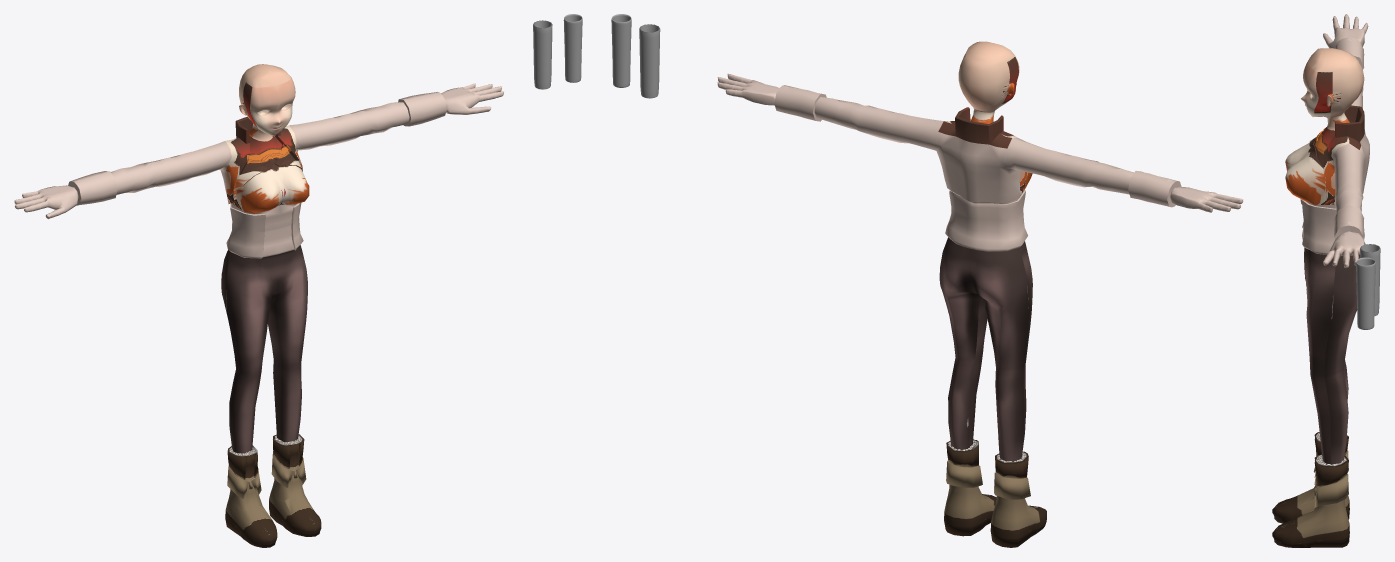
The model's file is cups (1).fbx.
The picture shows the model from 3 angles, left to right: view 1: azimuth 30°, elevation 25°; view 2: azimuth 150°, elevation 25°; view 3: azimuth 270°, elevation 25°; orthographic projection. The views are drawn at different scales.
Visible parts, largest first — view 1: pCube60, cup2, cup1; view 2: pCube60, cup2, cup1; view 3: pCube60, cup1, cup2.
Boxes of the visible parts, bbox=[...] form: pCube60: bbox=[14, 64, 504, 547]; cup2: bbox=[533, 20, 552, 89]; cup1: bbox=[563, 14, 582, 82]; pCube60: bbox=[717, 41, 1243, 547]; cup2: bbox=[639, 24, 660, 98]; cup1: bbox=[611, 14, 631, 87]; pCube60: bbox=[1272, 14, 1369, 547]; cup1: bbox=[1356, 257, 1375, 329]; cup2: bbox=[1360, 244, 1380, 316].
Size of the model in its own units: 1.99 by 1.5 by 0.3074.
